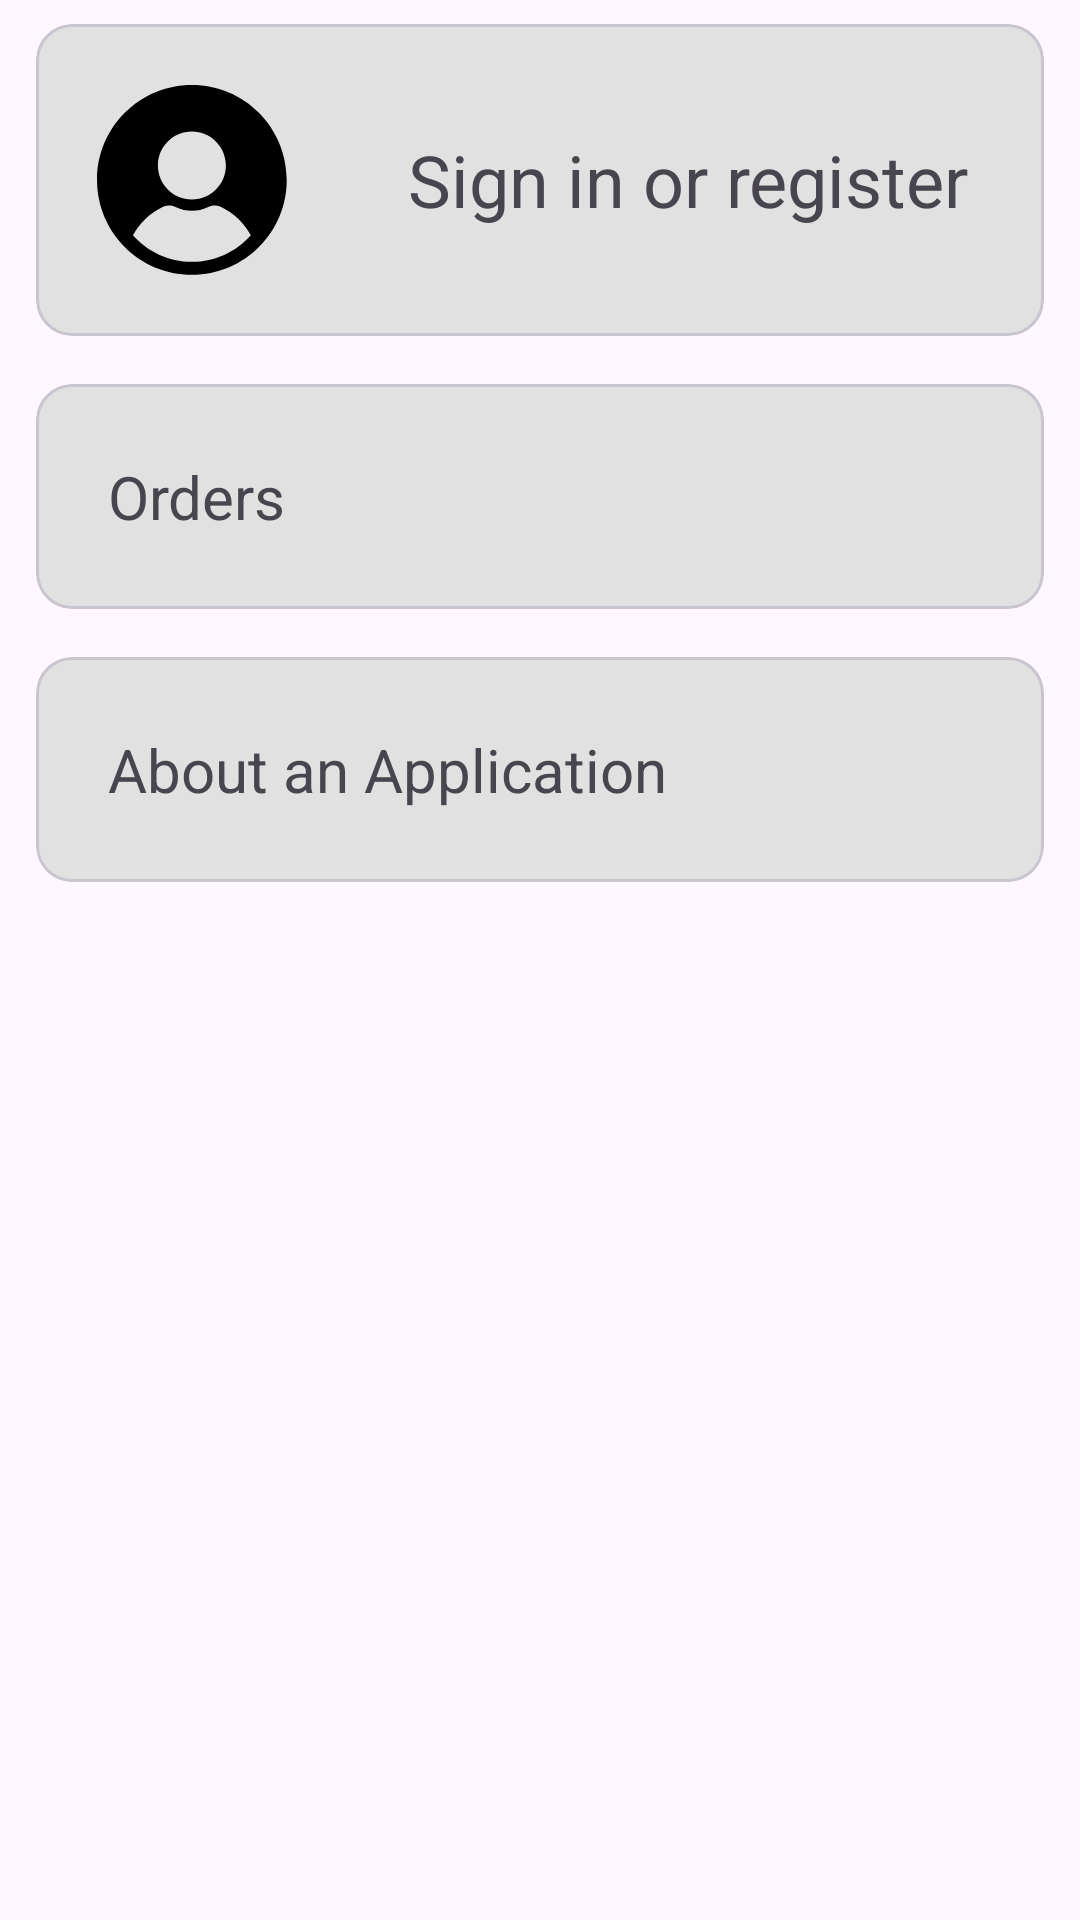

Where icons sit on this 1080px x 1920px app screen, as [x1,y1,x2,y2]:
profile: [97,85,287,275]
